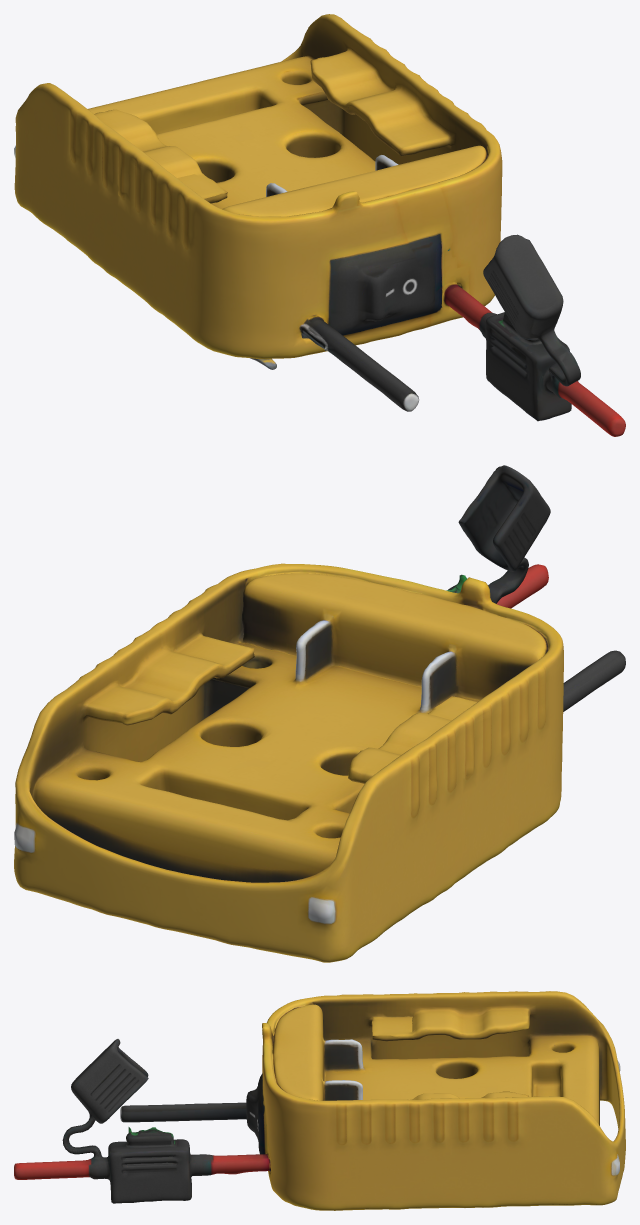
File: ElectricalTester_v1.glb
3 renders of one model, top to bottom at view 1: azimuth 30°, elevation 25°; view 2: azimuth 150°, elevation 25°; view 3: azimuth 270°, elevation 25°, orthographic. The views are drawn at different scales.
Visible parts, largest first — view 1: tripo_node_ece75f64; view 2: tripo_node_ece75f64; view 3: tripo_node_ece75f64.
Part boxes in pixels (left/top/right/bottom): tripo_node_ece75f64: left=14, top=14, right=625, bottom=436; tripo_node_ece75f64: left=14, top=465, right=625, bottom=962; tripo_node_ece75f64: left=14, top=991, right=625, bottom=1210.
Size of the model in its own units: 43.5 by 26.08 by 99.96.
1 material, 1 textured.
